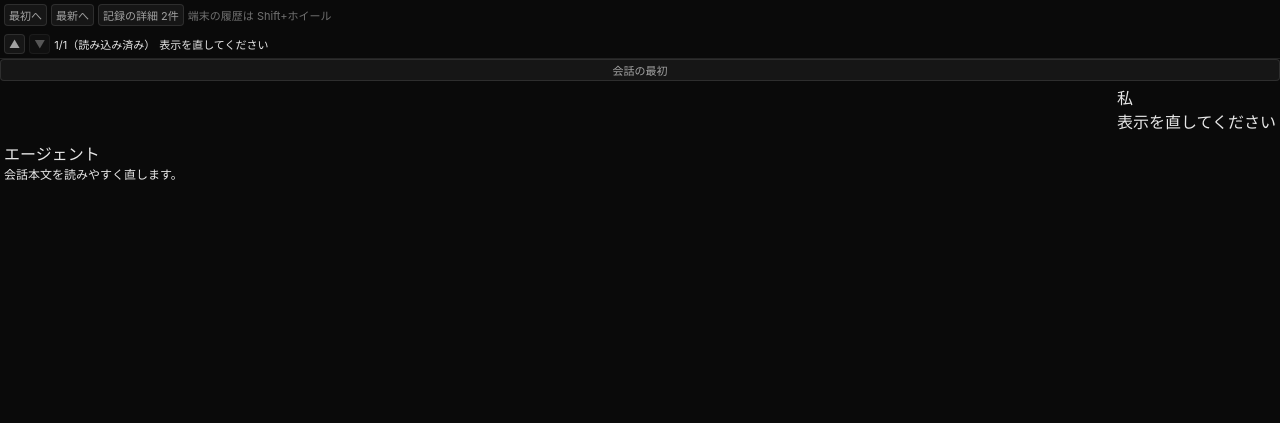
Test: shared read-only archive view › keeps diagnostic records out of the conversation while preserving access to their source
Expected: the text "未対応の記録" is not shown
Click the button "記録の詳細 2件" at (141,15), box left=98, top=4, right=184, bottom=26
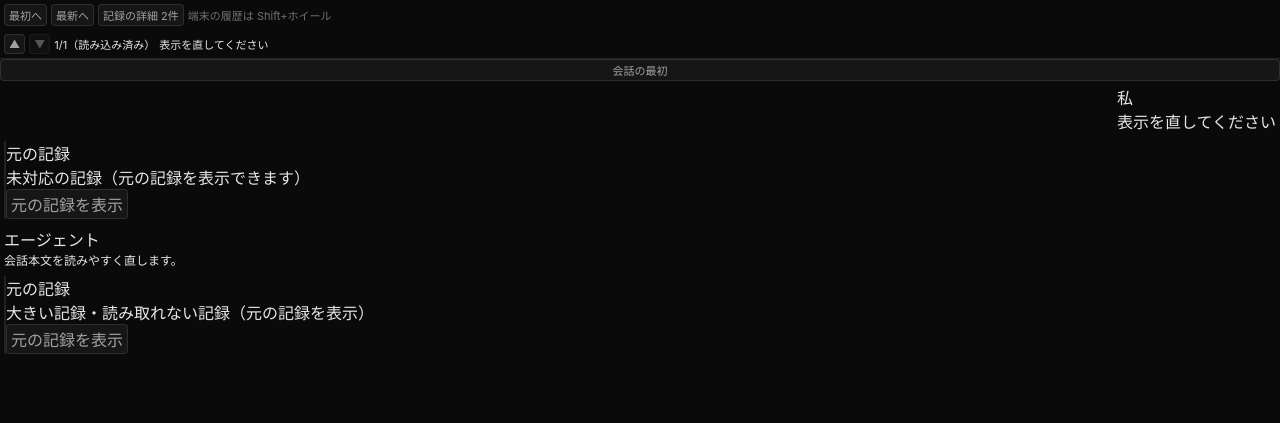
Click the button "元の記録を表示" below "未対応の記録（元の記録を表示できます）" at (67,204), box left=6, top=189, right=128, bottom=219
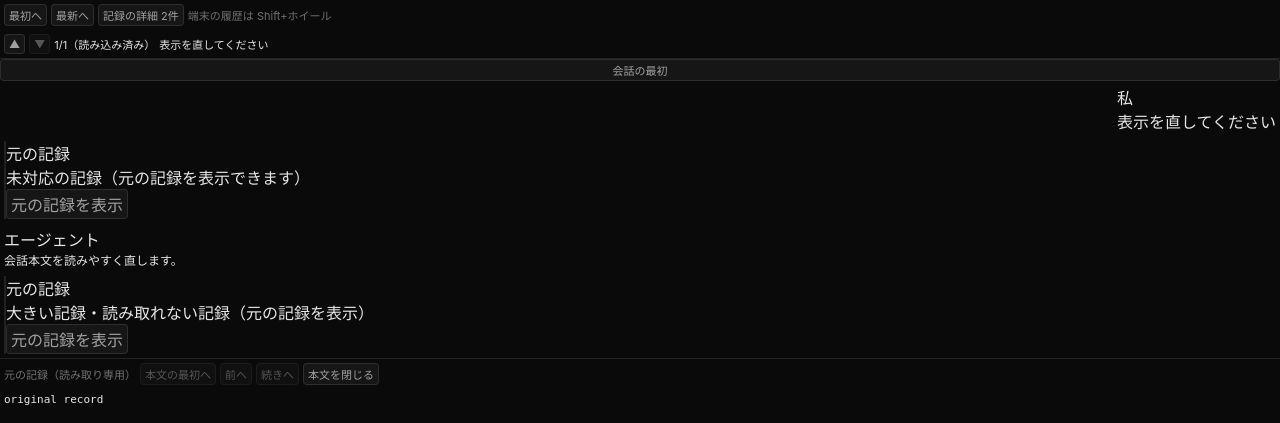
Result: the element with class "cmux-archive-body" shows "original record" at left=4, top=393, right=103, bottom=406
